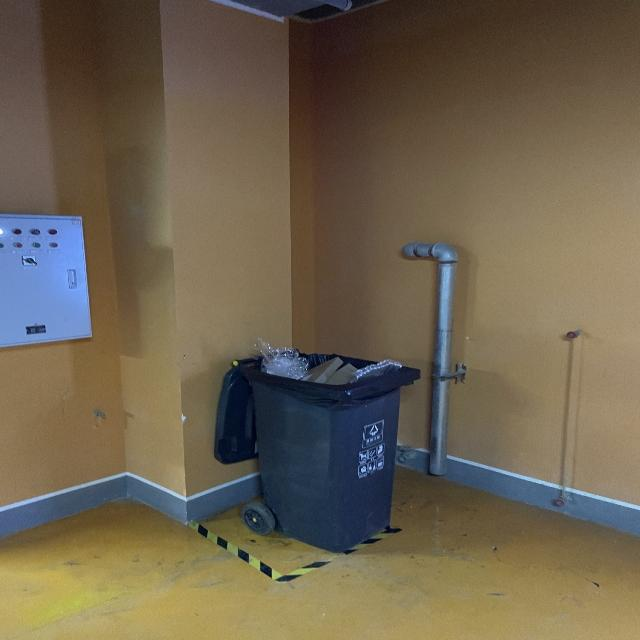overflow: (211, 337, 419, 551)
